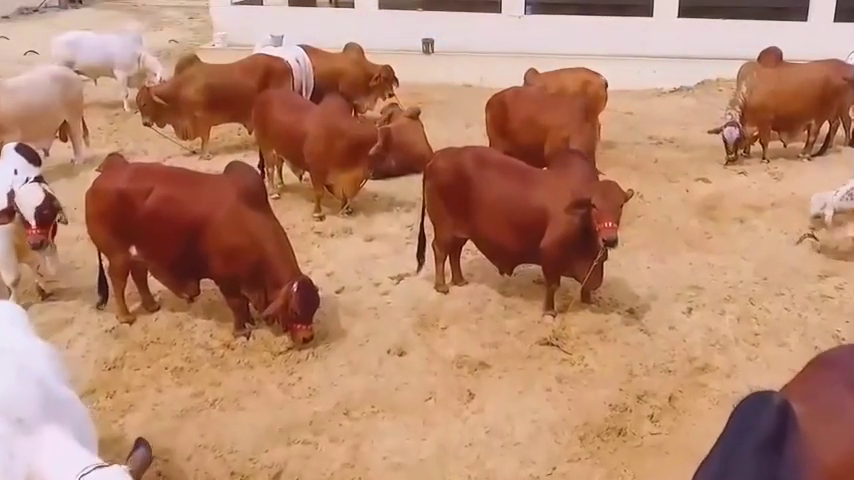bo: (76, 152, 331, 352), (403, 141, 634, 330), (1, 295, 157, 480), (684, 332, 850, 476), (242, 84, 394, 222), (707, 43, 854, 167), (134, 46, 293, 149), (469, 84, 611, 187), (1, 136, 73, 309), (43, 18, 171, 110), (288, 24, 414, 107), (1, 59, 96, 155), (514, 54, 617, 134), (244, 26, 327, 112), (362, 92, 440, 180), (794, 169, 848, 241)
